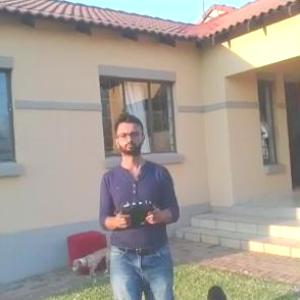follow: (96, 107, 186, 299)
null: (71, 241, 110, 280)
